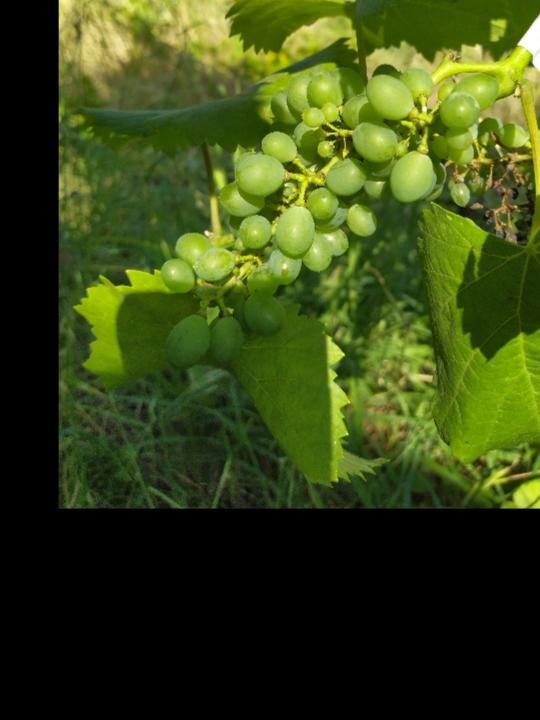grape: (151, 64, 510, 377)
